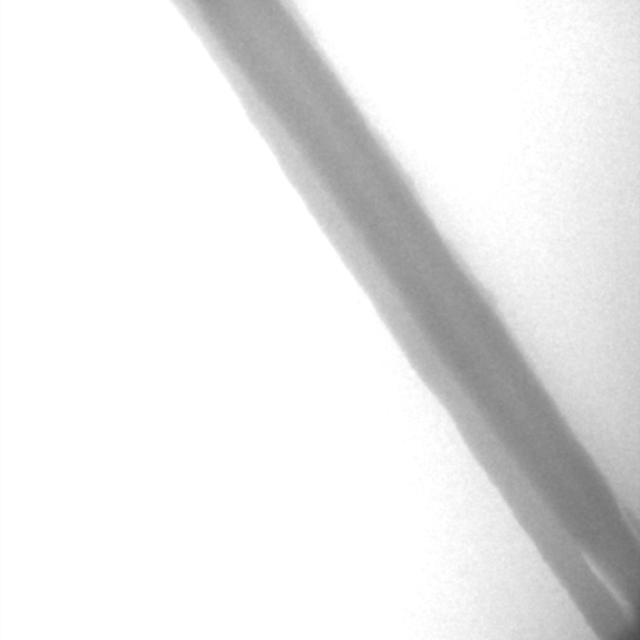unfused: (581, 505, 636, 606)
